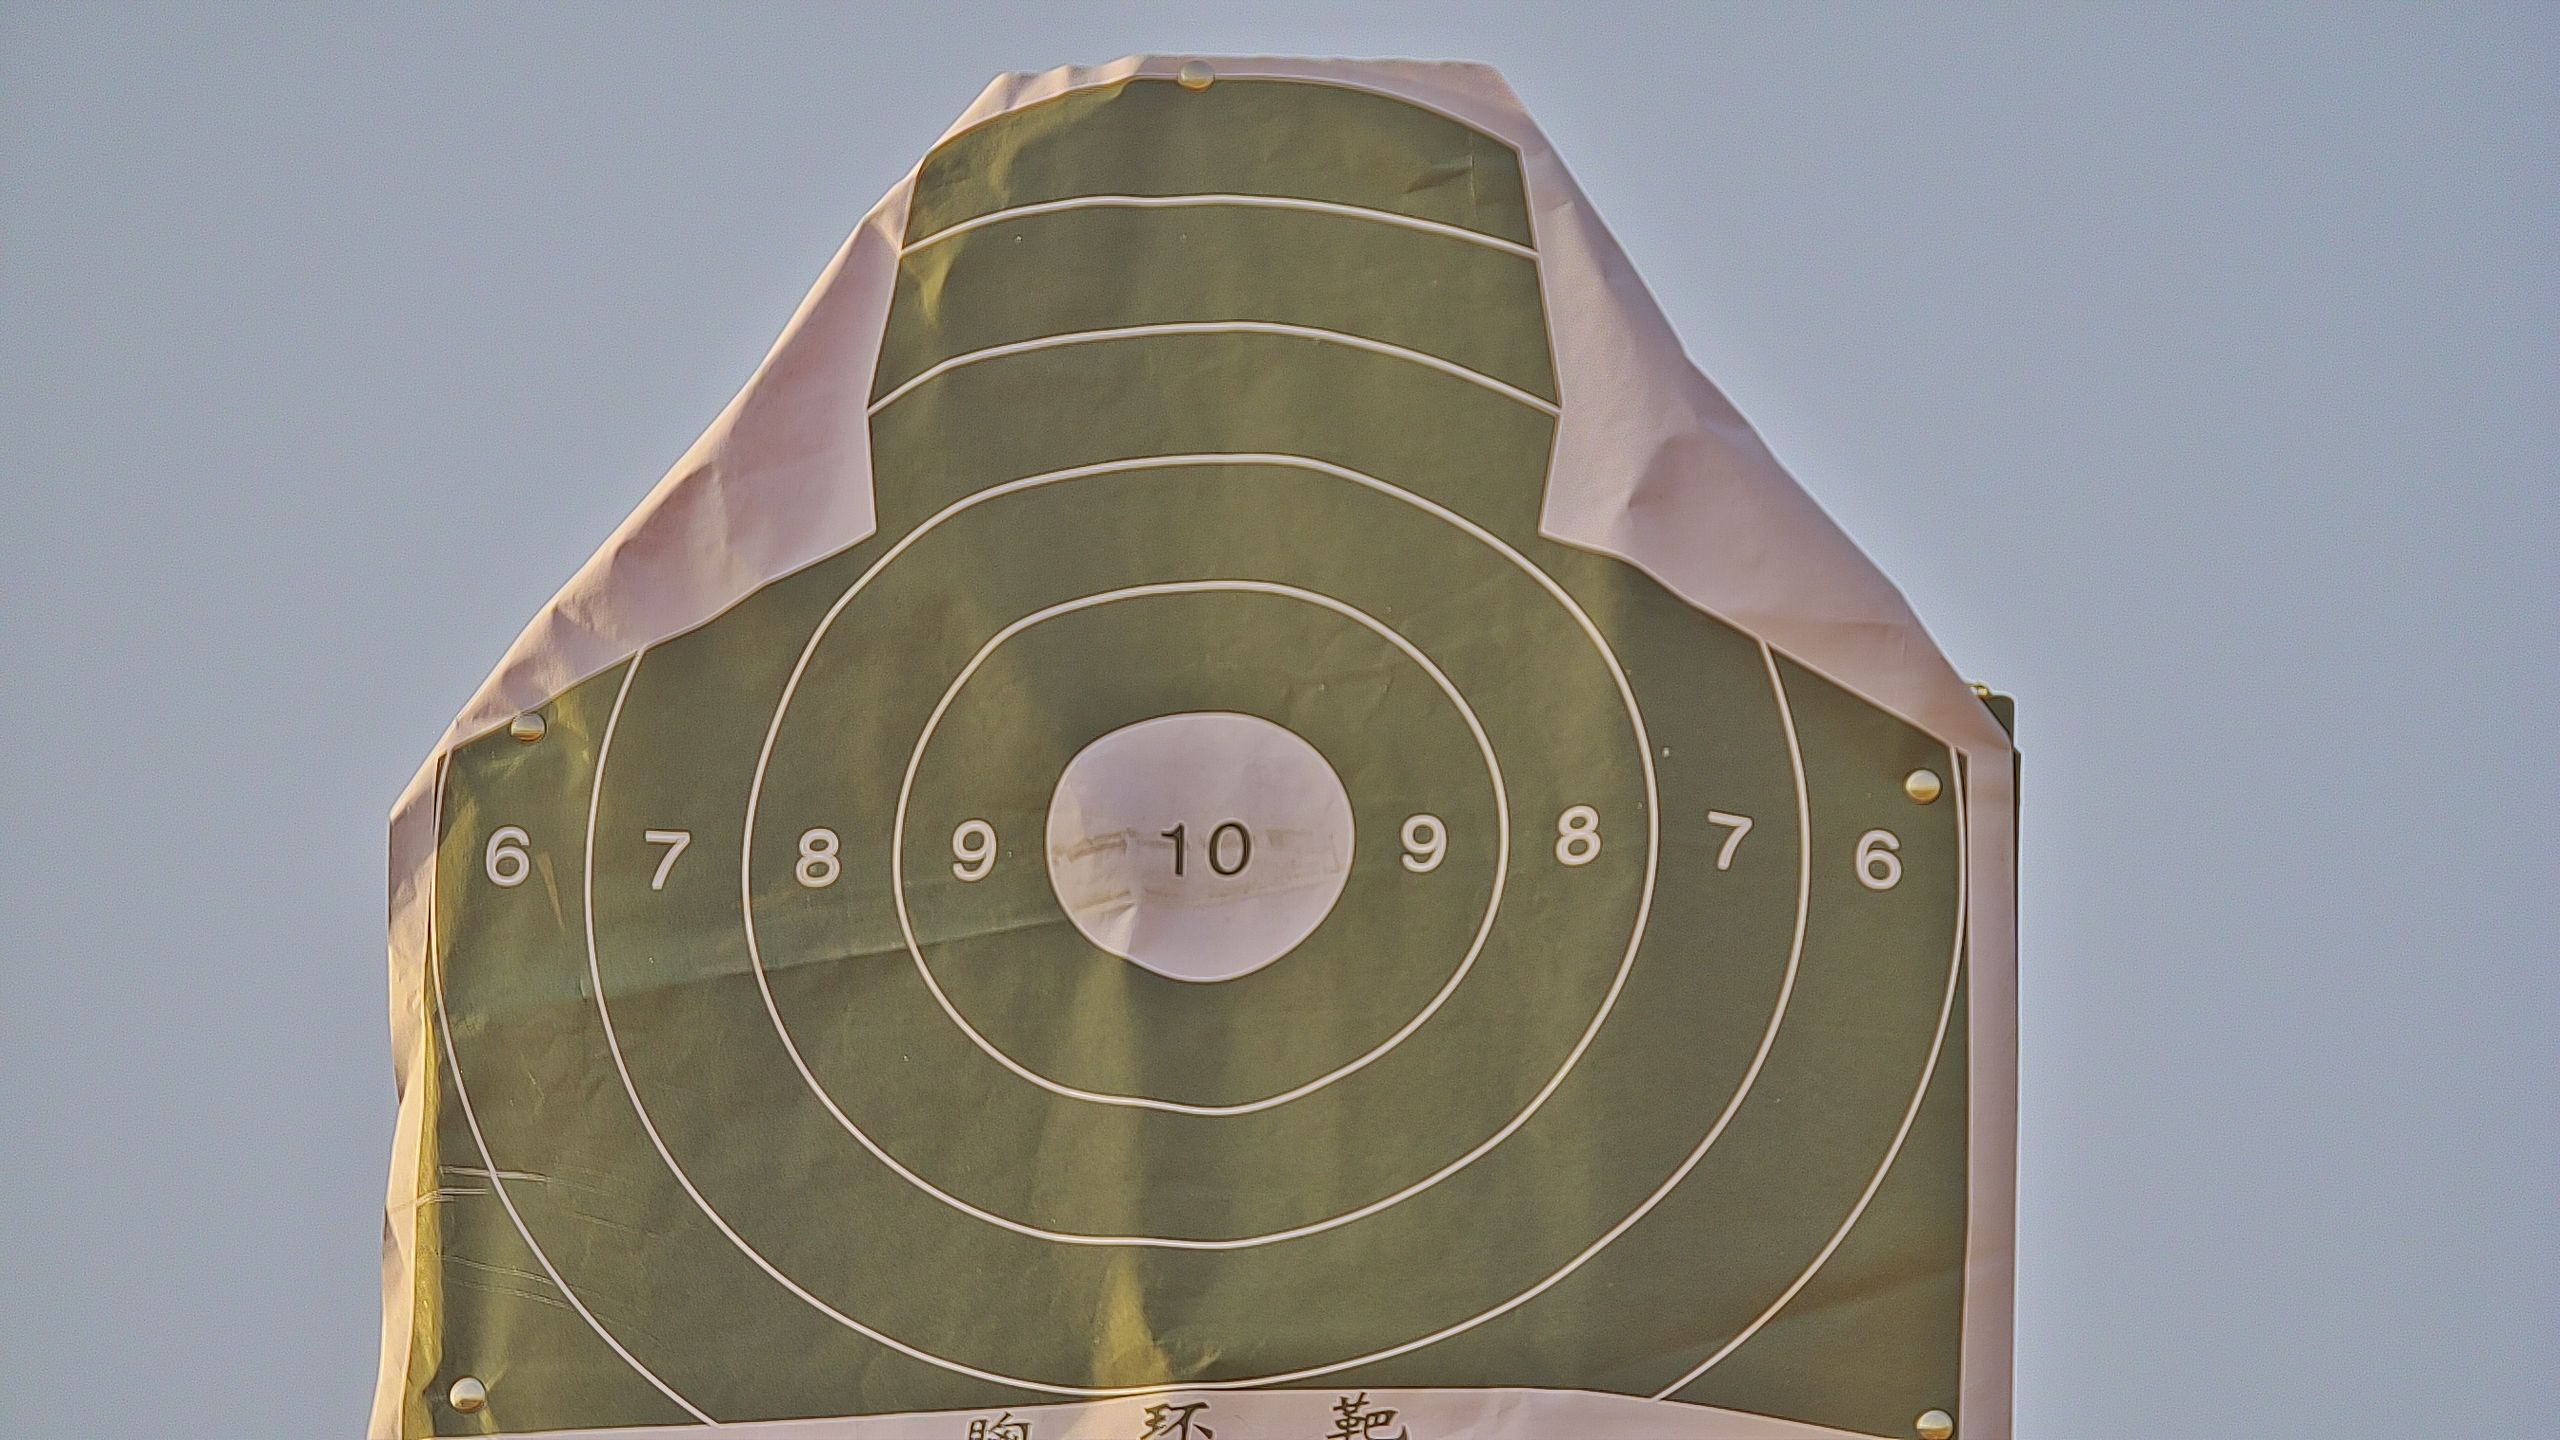kernel: (1194, 849, 1196, 855)
target: (408, 90, 1960, 1440)
ten: (1044, 710, 1359, 988)
